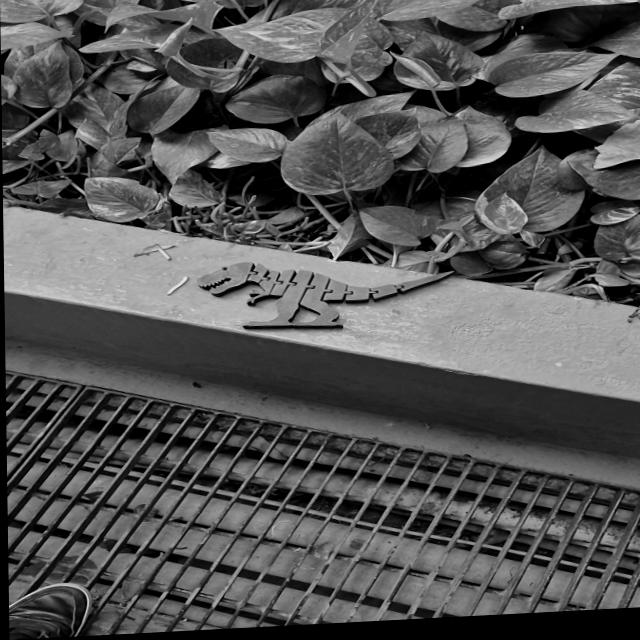dino: (195, 251, 456, 337)
